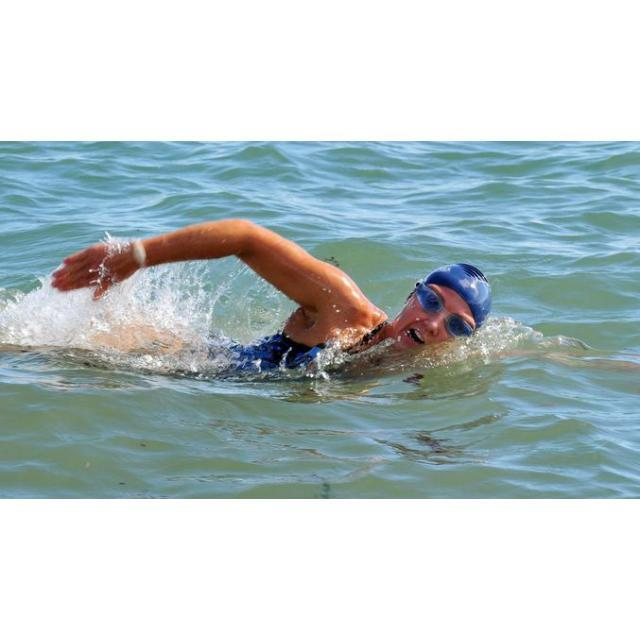human: (44, 215, 494, 394)
